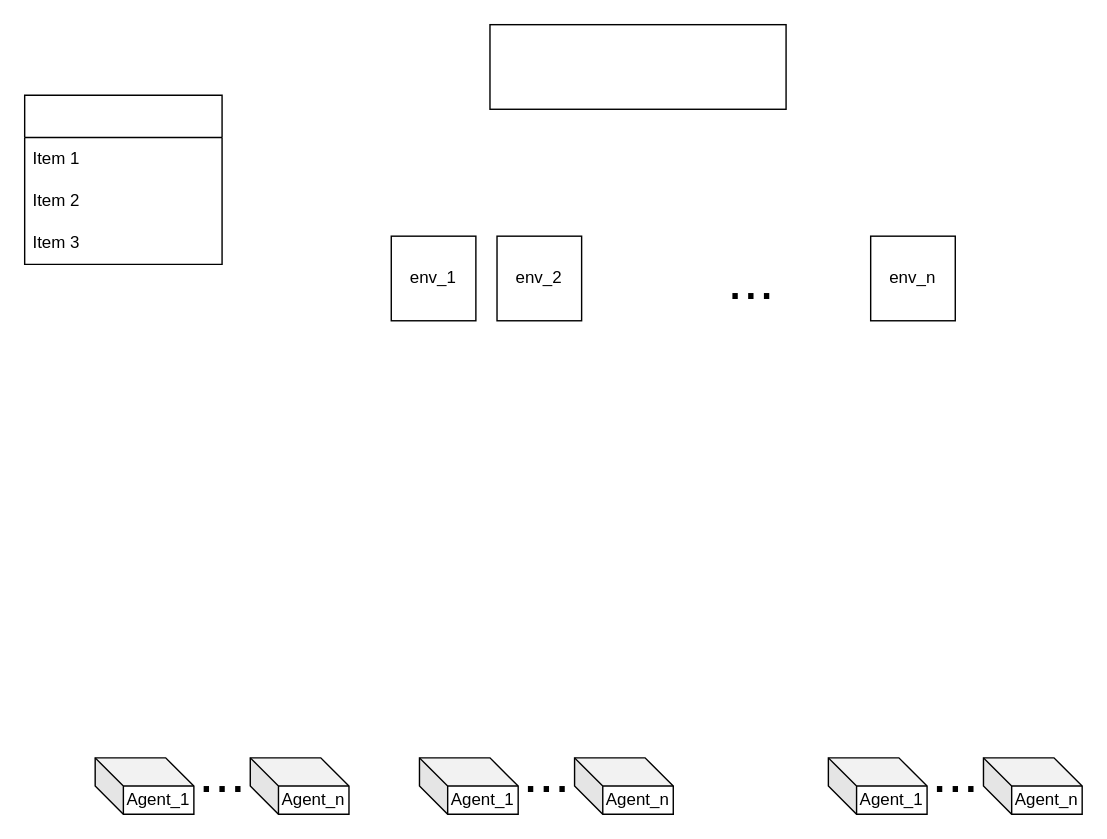
This 1107x839 diagram has some shape labels left out. The box of each missing label's shape, as (x1, y1, x2, y2) in pixels:
Env: (23, 94, 222, 264)
MATSIM Server: (489, 23, 786, 109)
